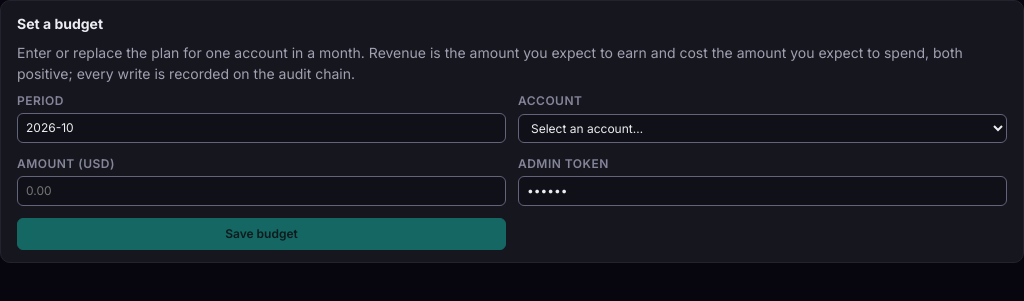
Test: BudgetEntry (T-L4-005) › sends integer cents with the admin token and reports the write
Step 1. Select "6100 — Software & subscriptions" in the dropdown with test id "budget-account" → coordinates (762, 128), box [518,114,1007,143]
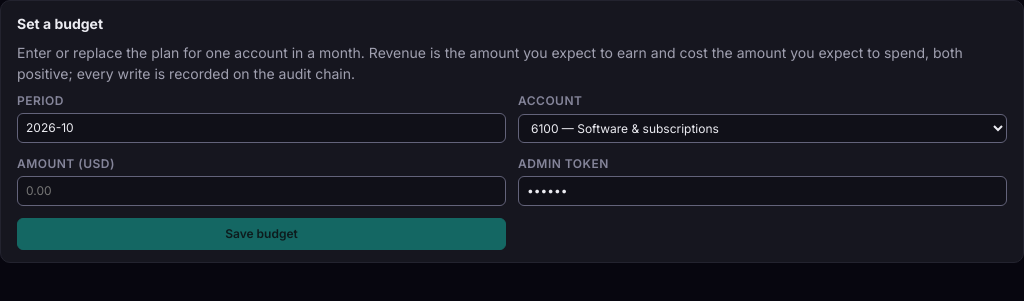
Step 2. Type "180.50" into the field with test id "budget-amount" → coordinates (262, 191), box [17,176,506,206]
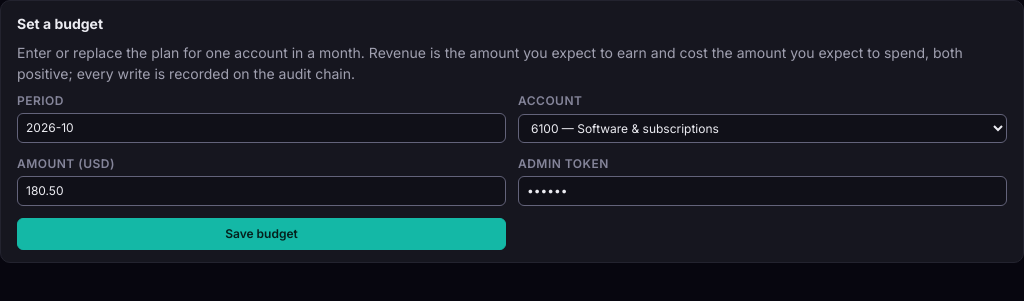
Step 3. Click the button with test id "budget-save" → coordinates (262, 234), box [17,218,506,250]
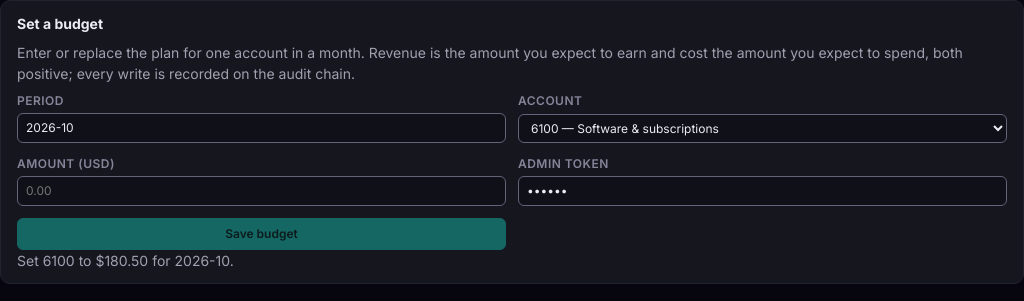
Result: the text with test id "budget-saved" reads "Set 6100 to $180.50 for 2026-10." at [17,252,234,269]
